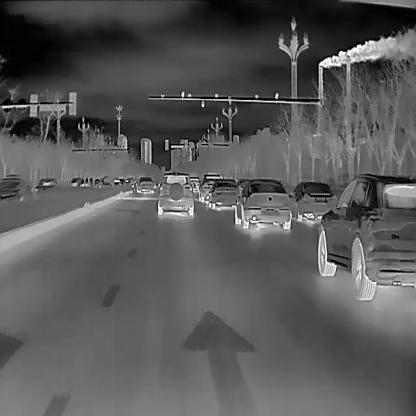car: (316, 172, 416, 300), (233, 176, 296, 228), (288, 180, 338, 223), (155, 171, 194, 214), (205, 176, 240, 209), (0, 173, 32, 204), (197, 172, 223, 202), (134, 173, 155, 193), (35, 176, 57, 192), (69, 175, 84, 187)
